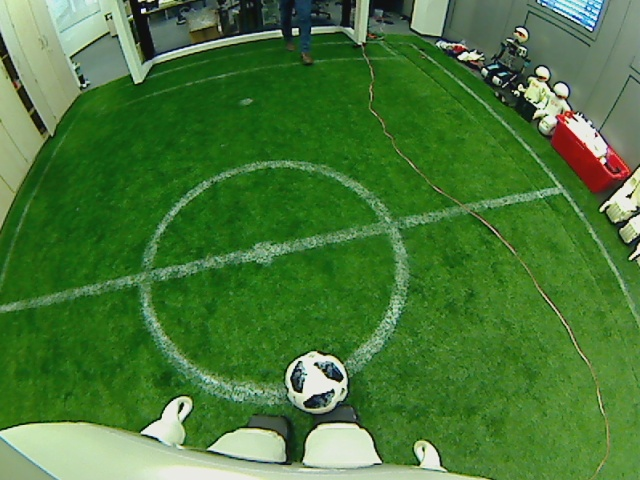ball: (283, 348, 350, 414)
